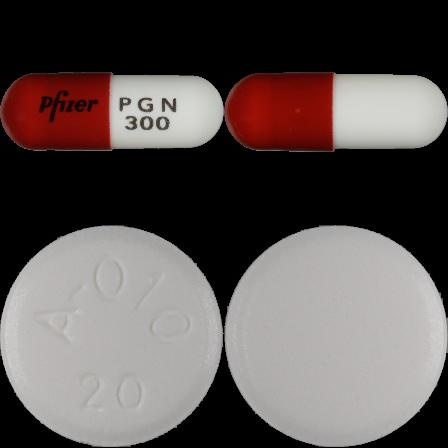43353-840: (0, 0, 224, 224)
